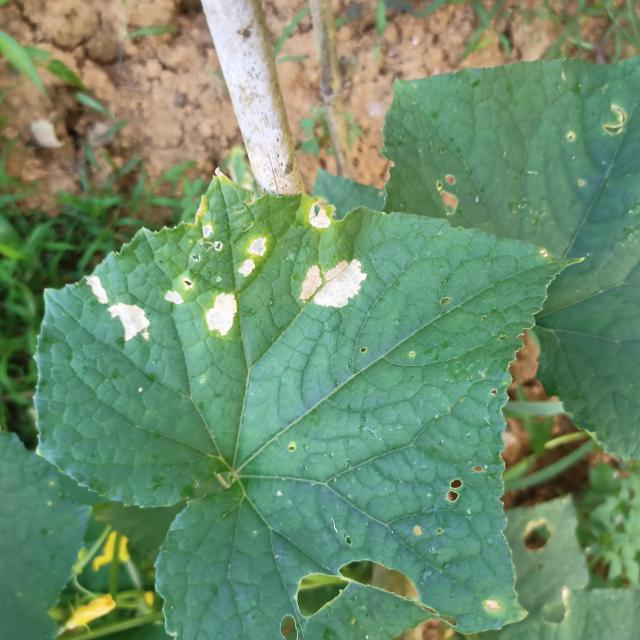disease_cucumber: (160, 222, 275, 339), (293, 252, 375, 320), (82, 275, 155, 347), (299, 200, 336, 237)
